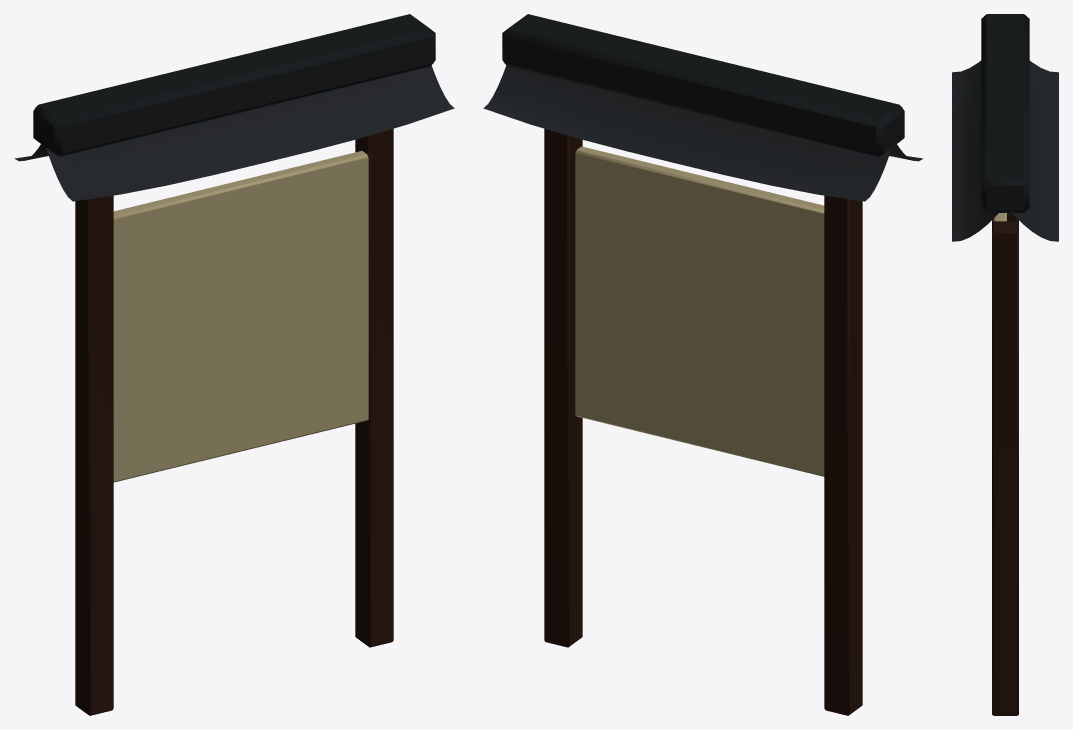
Rendered from hz-signboard-guide.glb.
3 views of the same model, side by side, from view 1: azimuth 30°, elevation 25°; view 2: azimuth 150°, elevation 25°; view 3: azimuth 270°, elevation 25° (orthographic). The views are drawn at different scales.
Parts seen in each view (by area): view 1: board__paint, roof__tile, posts__wood; view 2: board__paint, roof__tile, posts__wood; view 3: roof__tile, posts__wood.
Boxes of the visible parts, x1,y1,x2,y2 form: board__paint: (113,151,368,482); roof__tile: (14,14,454,201); posts__wood: (75,128,393,715); board__paint: (575,146,824,476); roof__tile: (483,14,923,201); posts__wood: (544,128,862,715); roof__tile: (952,14,1058,241); posts__wood: (992,213,1018,715).
Size of the model in its own units: 1.5 by 2.28 by 0.4.
